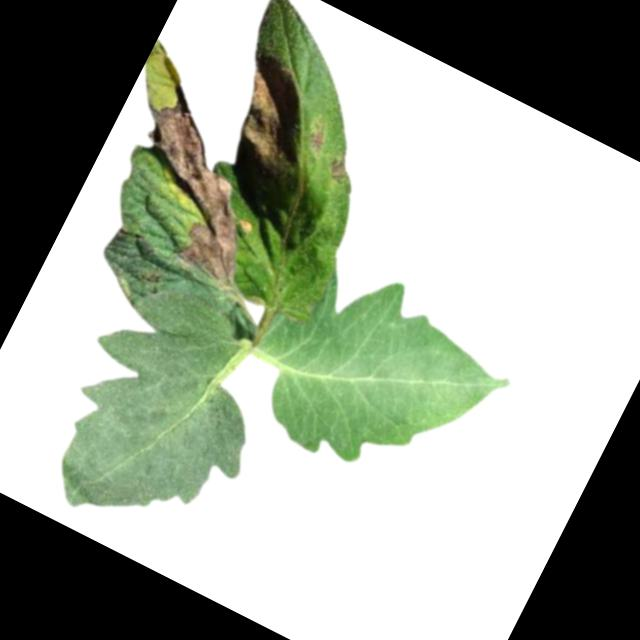Late_blight: (94, 80, 305, 292), (209, 50, 331, 188), (303, 113, 336, 156), (323, 153, 355, 184)
